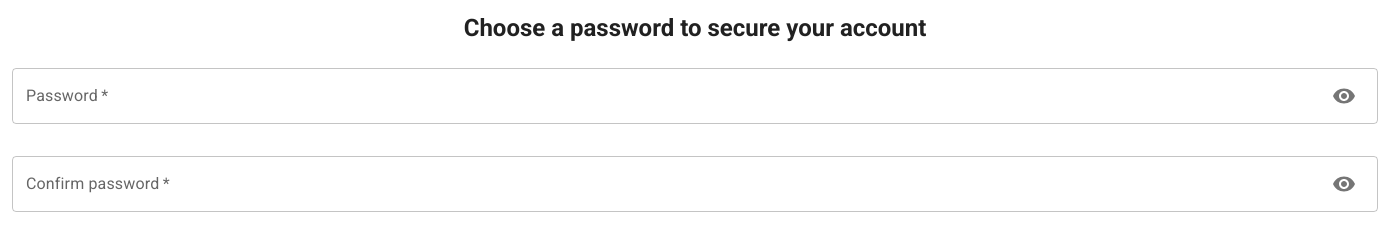
AccountSecurityStep › should show an error if password_confirmation is missing lowercase letter
Type "JOHN123!" into the password field labelled "Confirm password *".
click(664, 184); type("JOHN123!")  # box [12,156,1316,212]
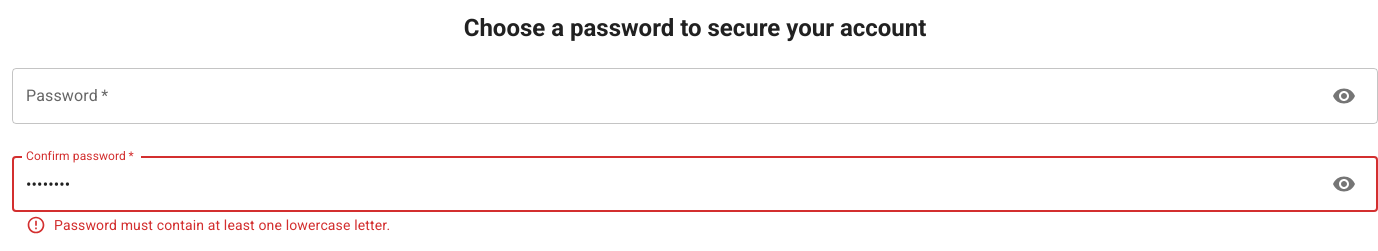
Expected: the message shows "lowercase", [54,217,390,233]
